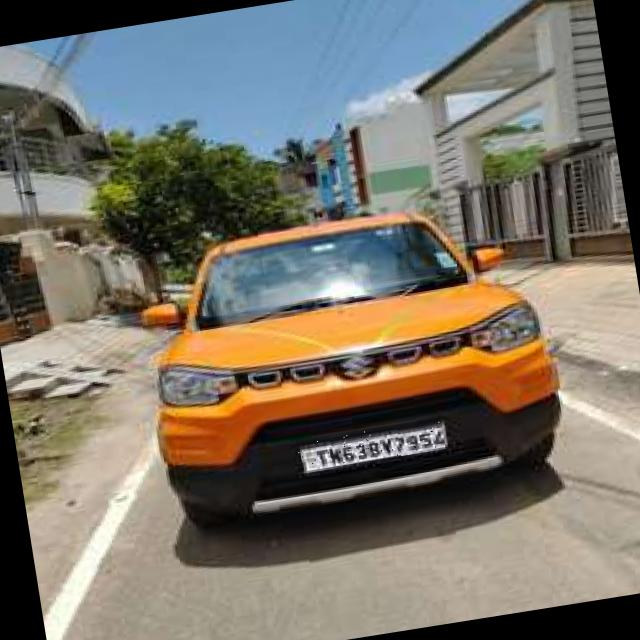Plate: (297, 418, 447, 473)
